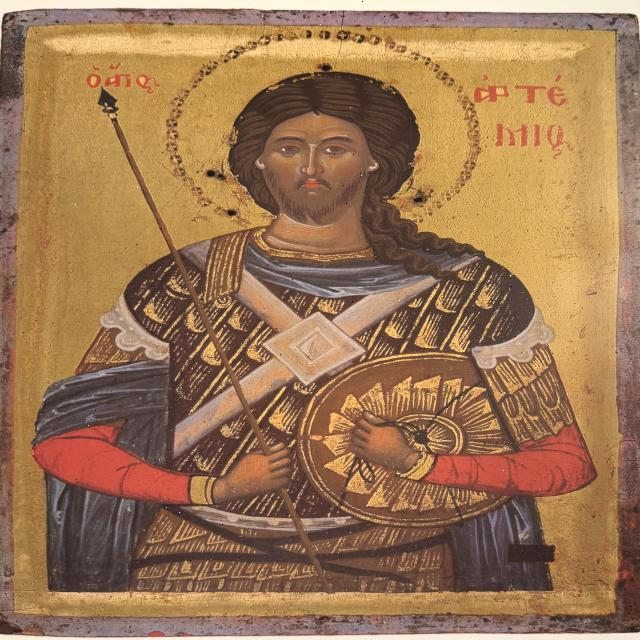aura: (165, 27, 485, 232)
saint: (36, 26, 602, 594)
shield: (306, 352, 528, 528)
spear: (91, 85, 331, 595)
